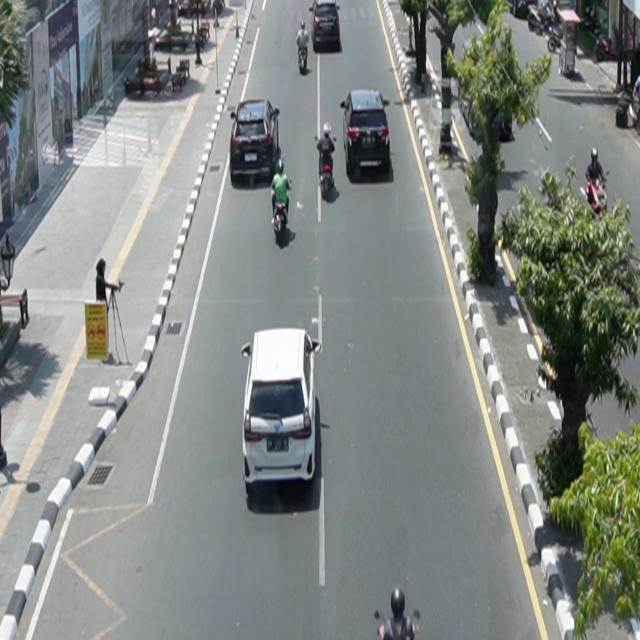car: (242, 327, 323, 496), (341, 90, 392, 177), (231, 99, 281, 183), (310, 1, 341, 53)
